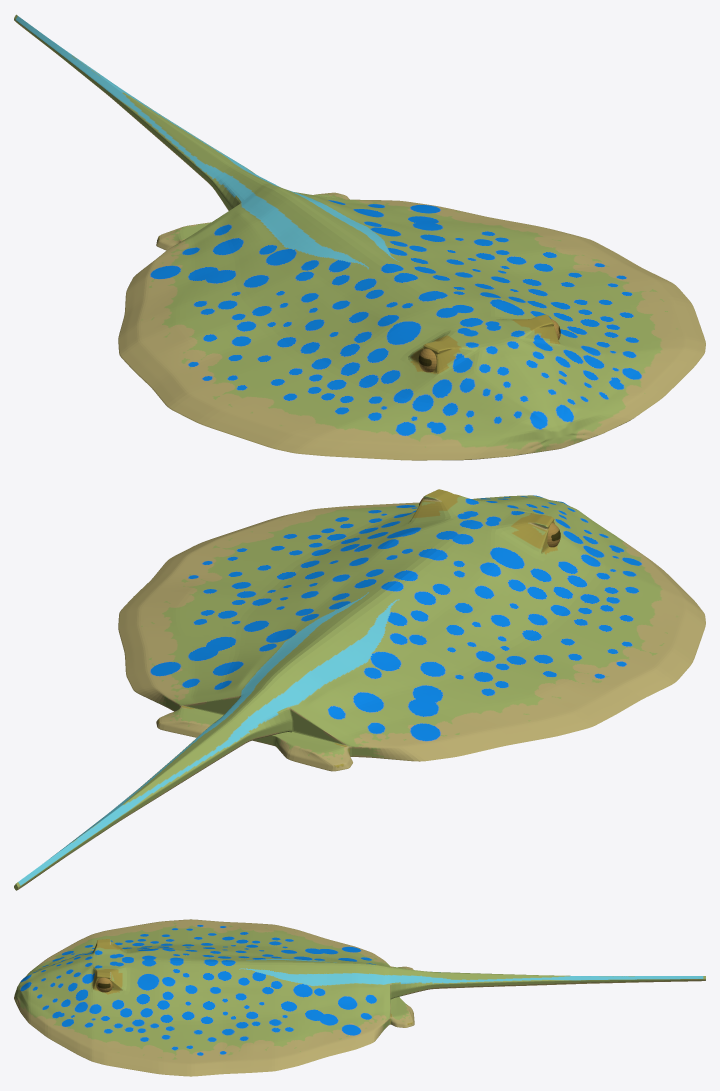
File: stingray.fbx
3 views of the same model, one above another, from view 1: azimuth 30°, elevation 25°; view 2: azimuth 150°, elevation 25°; view 3: azimuth 270°, elevation 25° (orthographic). The views are drawn at different scales.
Parts seen in each view (by area): view 1: Cube; view 2: Cube; view 3: Cube.
Boxes of the visible parts, x1=… form: Cube: x1=14, y1=14, x2=705, y2=460; Cube: x1=14, y1=489, x2=705, y2=890; Cube: x1=14, y1=919, x2=705, y2=1076.
Bounding box in the file's own units: 2.76 × 0.3376 × 5.14.
2 materials, 2 textured.
